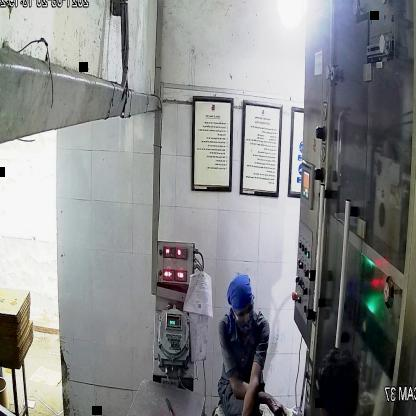goggles: (230, 301, 254, 326)
